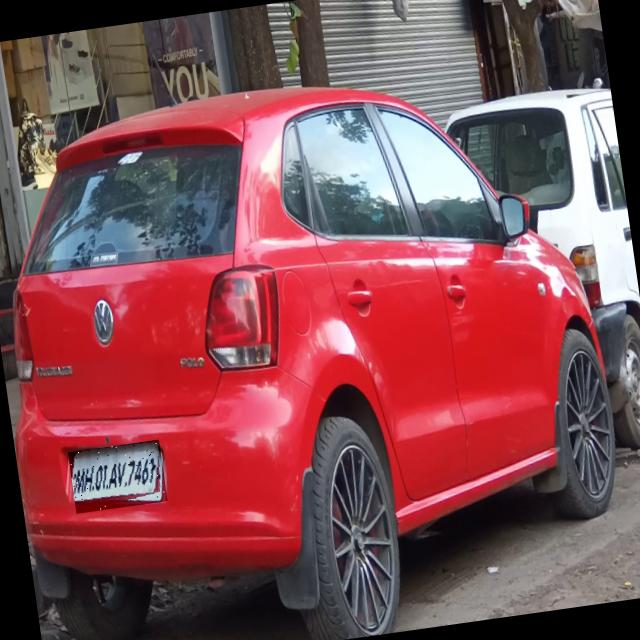Plate: (69, 441, 169, 515)
